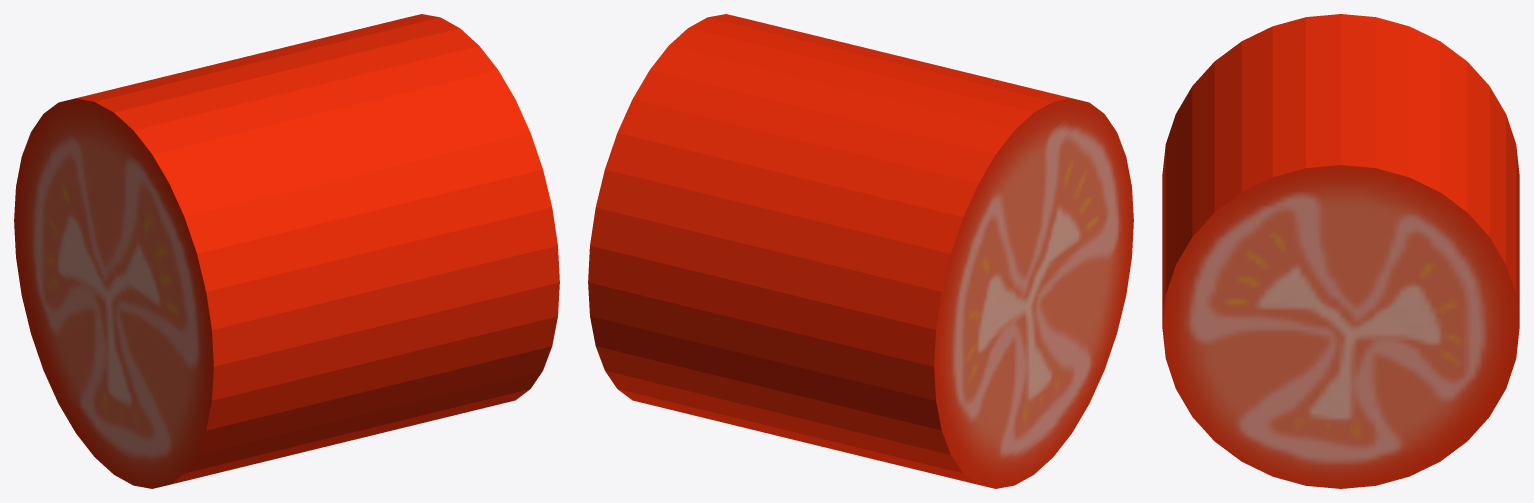
File: Tomato(1,1,1)-Dimentions.fbx
3 views of the same model, side by side, from view 1: azimuth 30°, elevation 25°; view 2: azimuth 150°, elevation 25°; view 3: azimuth 270°, elevation 25° (orthographic). The views are drawn at different scales.
Visible parts, largest first — view 1: Tomato; view 2: Tomato; view 3: Tomato.
Part boxes in pixels (box(x1,y1,x2,y2)): Tomato: box(14, 14, 559, 488); Tomato: box(588, 14, 1133, 488); Tomato: box(1162, 14, 1519, 488).
Bounding box in the file's own units: 1 × 1 × 1.
